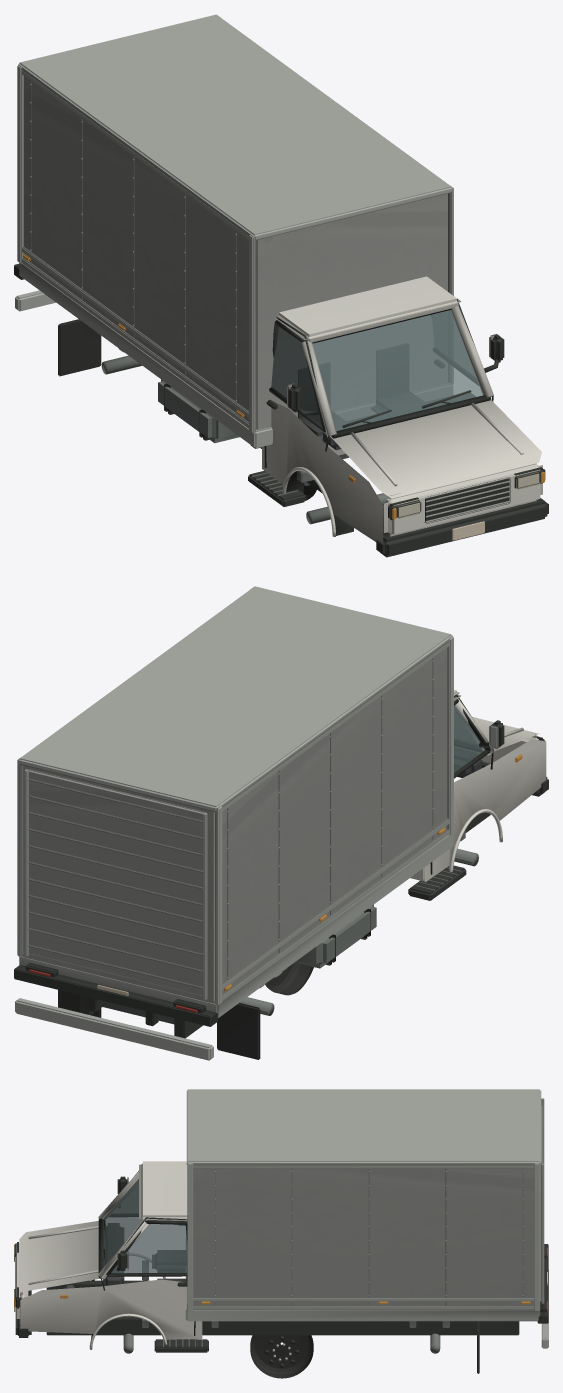
Rendered from harbor-box-truck.glb.
3 views of the same model, one above another, from view 1: azimuth 30°, elevation 25°; view 2: azimuth 150°, elevation 25°; view 3: azimuth 270°, elevation 25° (orthographic). The views are drawn at different scales.
Visible parts, largest first — view 1: Frame; view 2: Frame, WheelPrototype; view 3: Frame, WheelPrototype.
Boxes of the visible parts, left/top/right/bottom form: Frame: left=14, top=14, right=548, bottom=557; Frame: left=14, top=586, right=548, bottom=1060; WheelPrototype: left=265, top=962, right=313, bottom=995; Frame: left=14, top=1089, right=548, bottom=1373; WheelPrototype: left=250, top=1335, right=313, bottom=1378.
Bounding box in the file's own units: 2.31 × 3.47 × 6.7.
12 materials, 1 textured.
